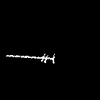treble_crochet: (7, 54, 54, 62)
